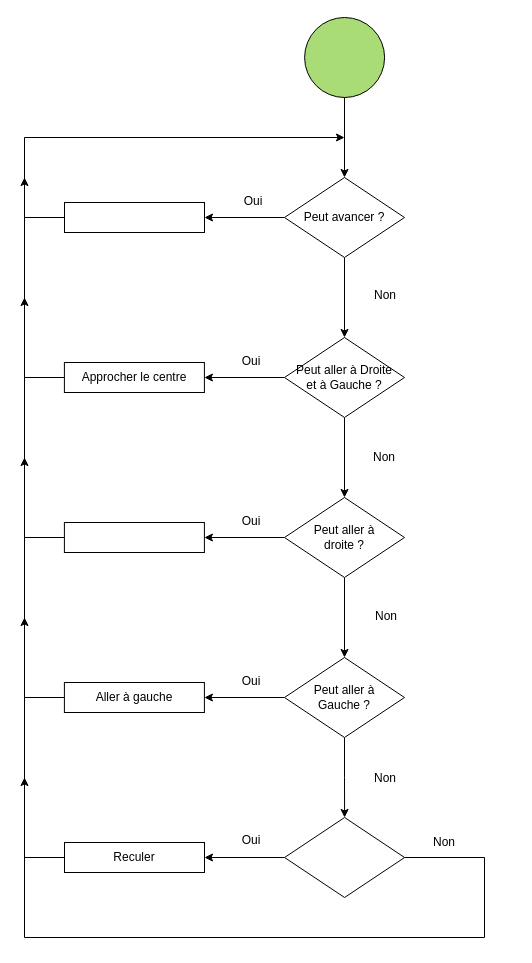
Image size: 532x963. Some labels were removed from this diagram. The box of each missing label's shape, as (x1, y1, x2, y2) in pixels:
Aller à Droite: (63, 522, 204, 552)
Avancer: (64, 202, 204, 232)
Peut reculer ?: (284, 816, 405, 898)
START: (304, 16, 385, 98)
